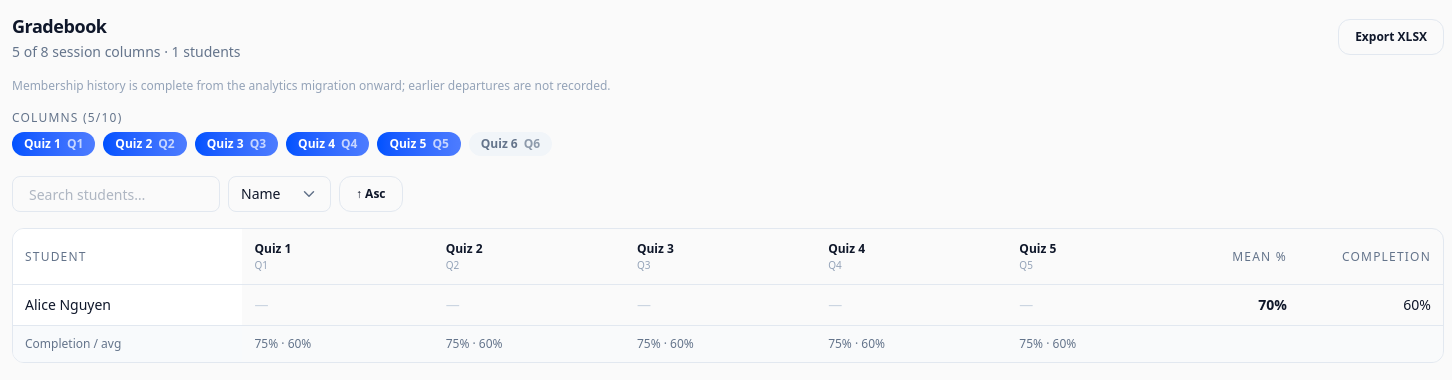
Test: GradebookTab (CLASS-M3) › passes the sort field and direction to the fetch
The image size is (1452, 380).
Later steps or results of the test are not shown.
Expected: the column heading "Alice Nguyen" is shown, [13,285,242,326]
Select "Mean %" in the dropdown named "Sort students by": (280, 194) [228,176,331,212]
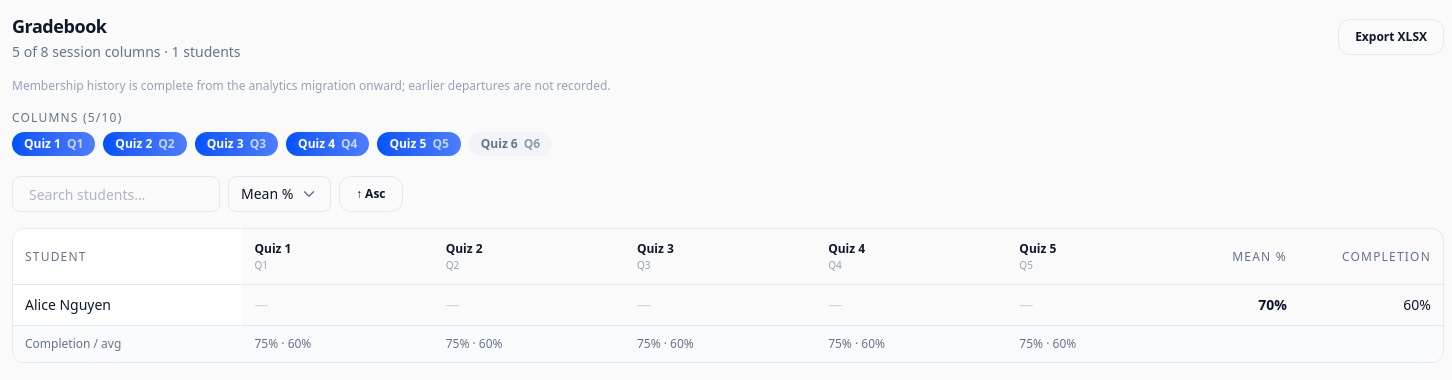
Click the button with aria-label "Sort direction: ascending": (371, 194) [339,176,402,212]
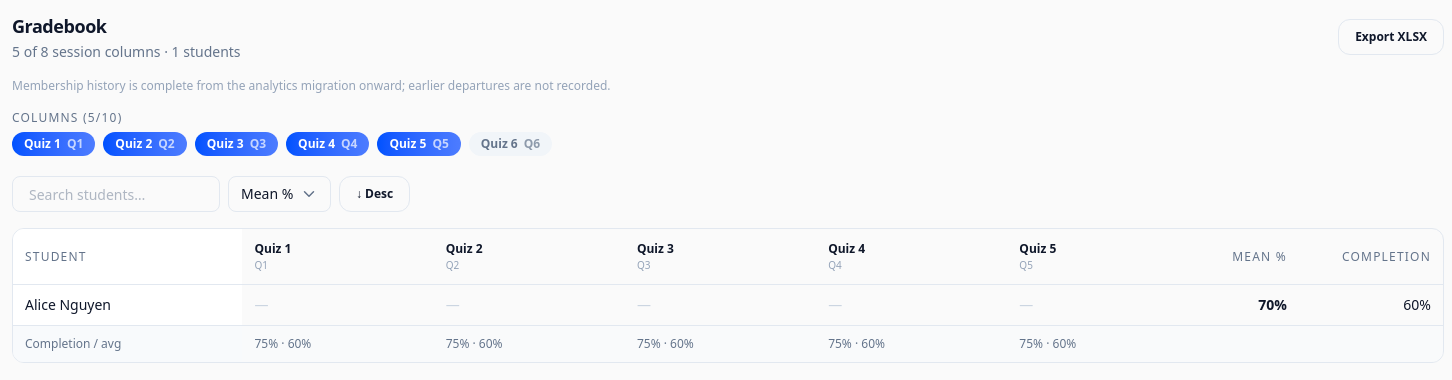
Now the button with aria-label "Sort direction: descending" is shown, box [339,176,410,212]
